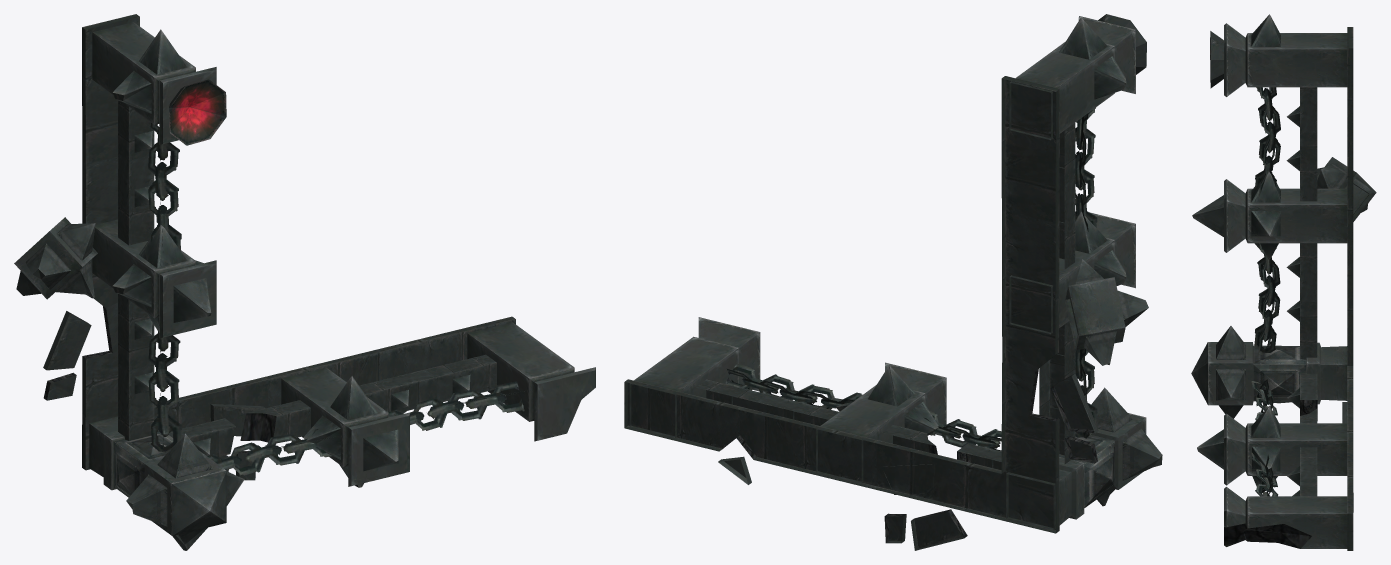
Rendered from juqing_fuben_252_langan_01a.obj.
3 renders of one model, left to right at view 1: azimuth 30°, elevation 25°; view 2: azimuth 150°, elevation 25°; view 3: azimuth 270°, elevation 25°, orthographic. The views are drawn at different scales.
Visible parts, largest first — view 1: juqing_fuben_252_langan_01a; view 2: juqing_fuben_252_langan_01a; view 3: juqing_fuben_252_langan_01a.
Part boxes in pixels (left/top/right/bottom): juqing_fuben_252_langan_01a: left=14, top=14, right=595, bottom=550; juqing_fuben_252_langan_01a: left=624, top=14, right=1162, bottom=550; juqing_fuben_252_langan_01a: left=1191, top=14, right=1376, bottom=550.
Size of the model in its own units: 204 by 201 by 80.57.
Materials: 1 (1 with a texture image).
